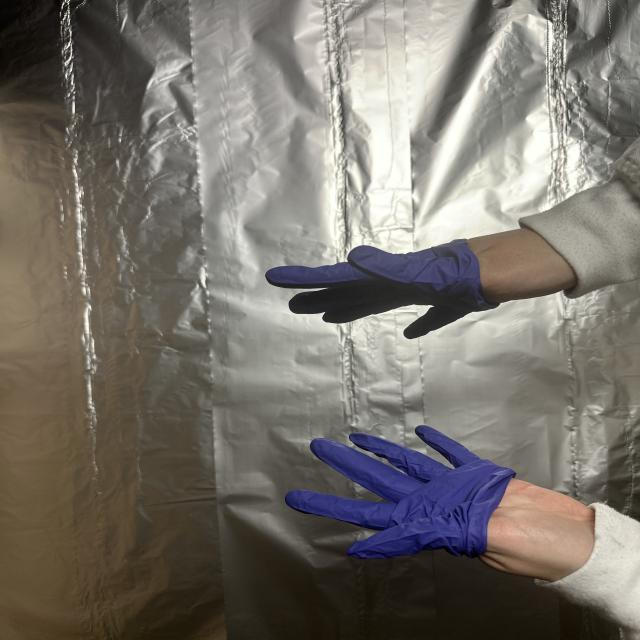glove_partial: (281, 421, 604, 585), (258, 224, 585, 343)
